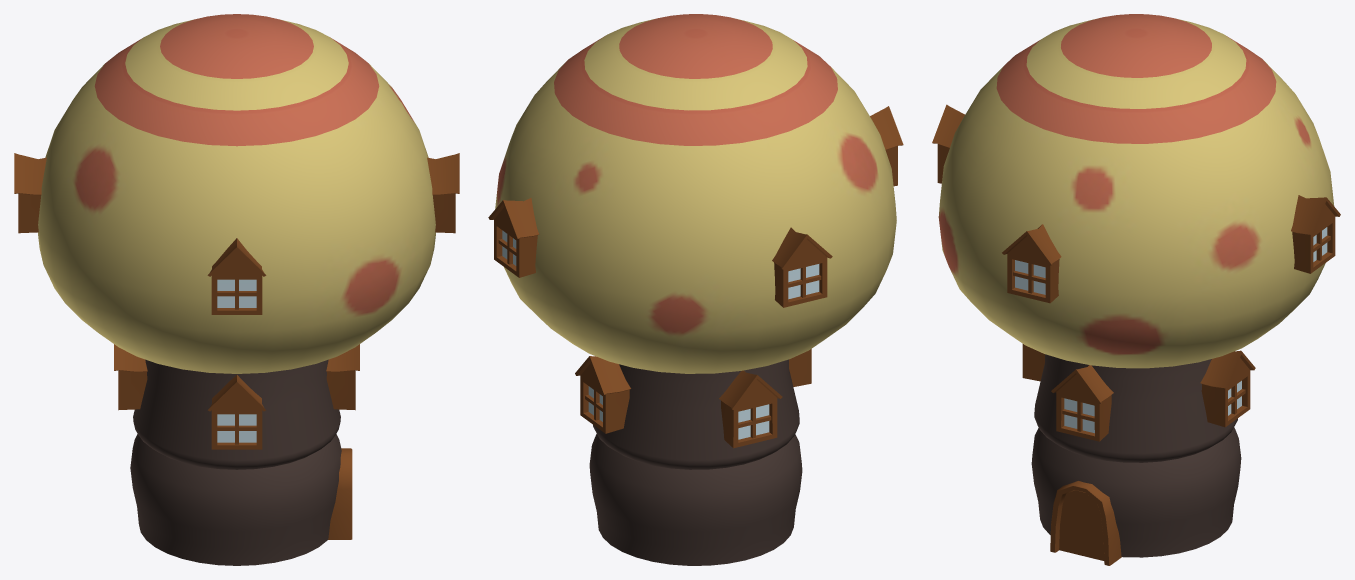
File: moguwu_05.FBX
The picture shows the model from 3 angles, left to right: view 1: azimuth 30°, elevation 25°; view 2: azimuth 150°, elevation 25°; view 3: azimuth 270°, elevation 25°; orthographic projection.
Visible parts, largest first — view 1: moguwu_05; view 2: moguwu_05; view 3: moguwu_05.
Part boxes in pixels (bbox=[...]): moguwu_05: bbox=[14, 14, 459, 565]; moguwu_05: bbox=[488, 14, 903, 565]; moguwu_05: bbox=[932, 14, 1340, 565].
Size of the model in its own units: 289 by 379 by 289.
